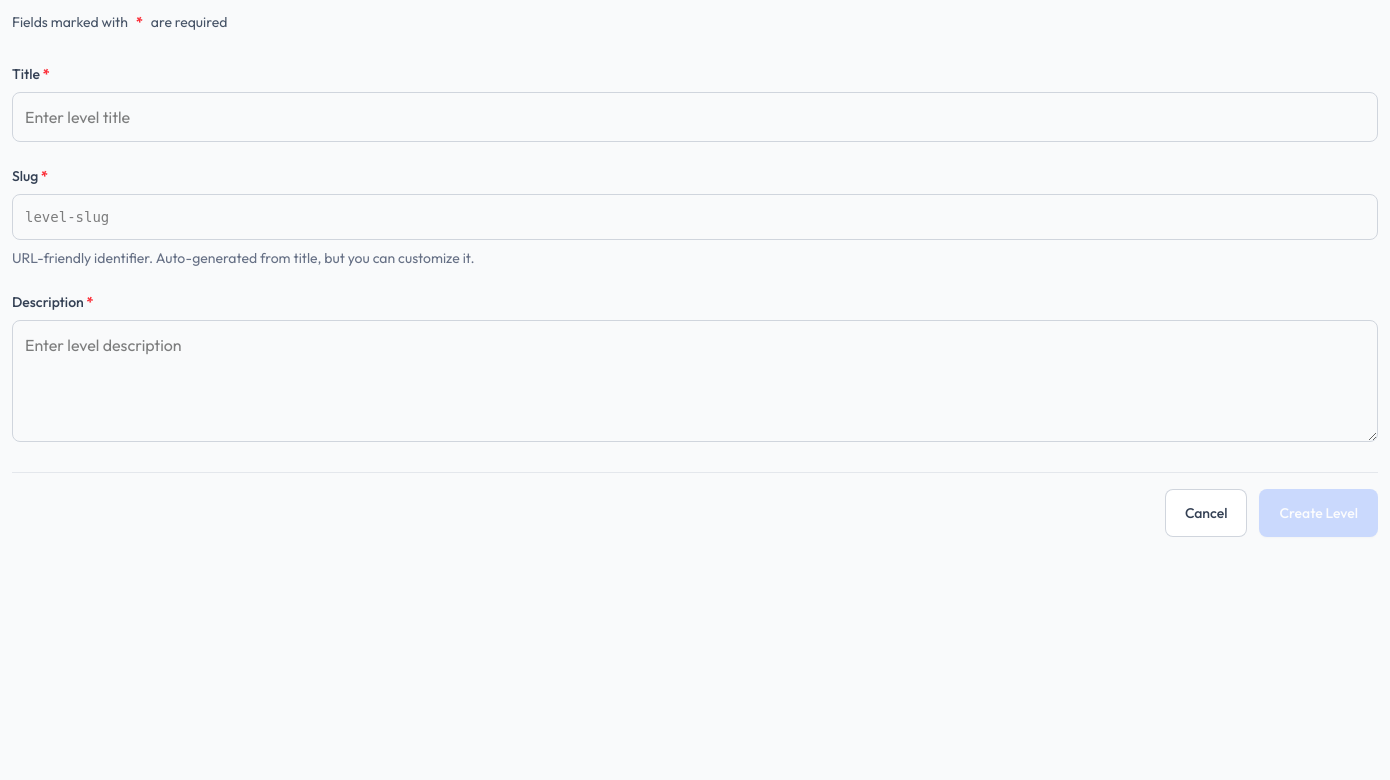
Test case: Form Error Handling › LevelForm displays API errors and allows retry
The width and height of the screenshot is (1390, 780).
# Fill in valid form data
Type "Test Level" into the field labelled "Title *" at (695, 117), box [12,92,1378,142]
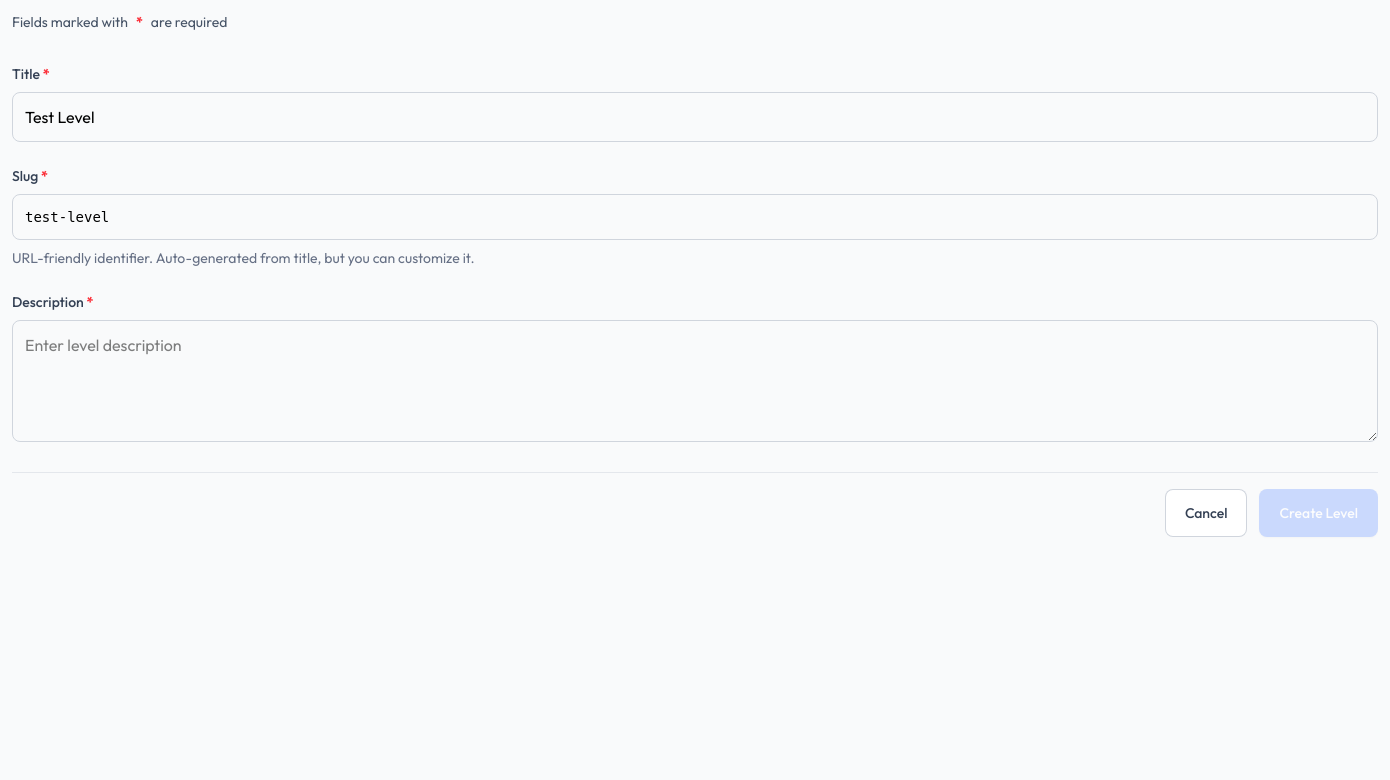
Type "Test description" into the text box labelled "Description *" at (695, 381), box [12,320,1378,442]
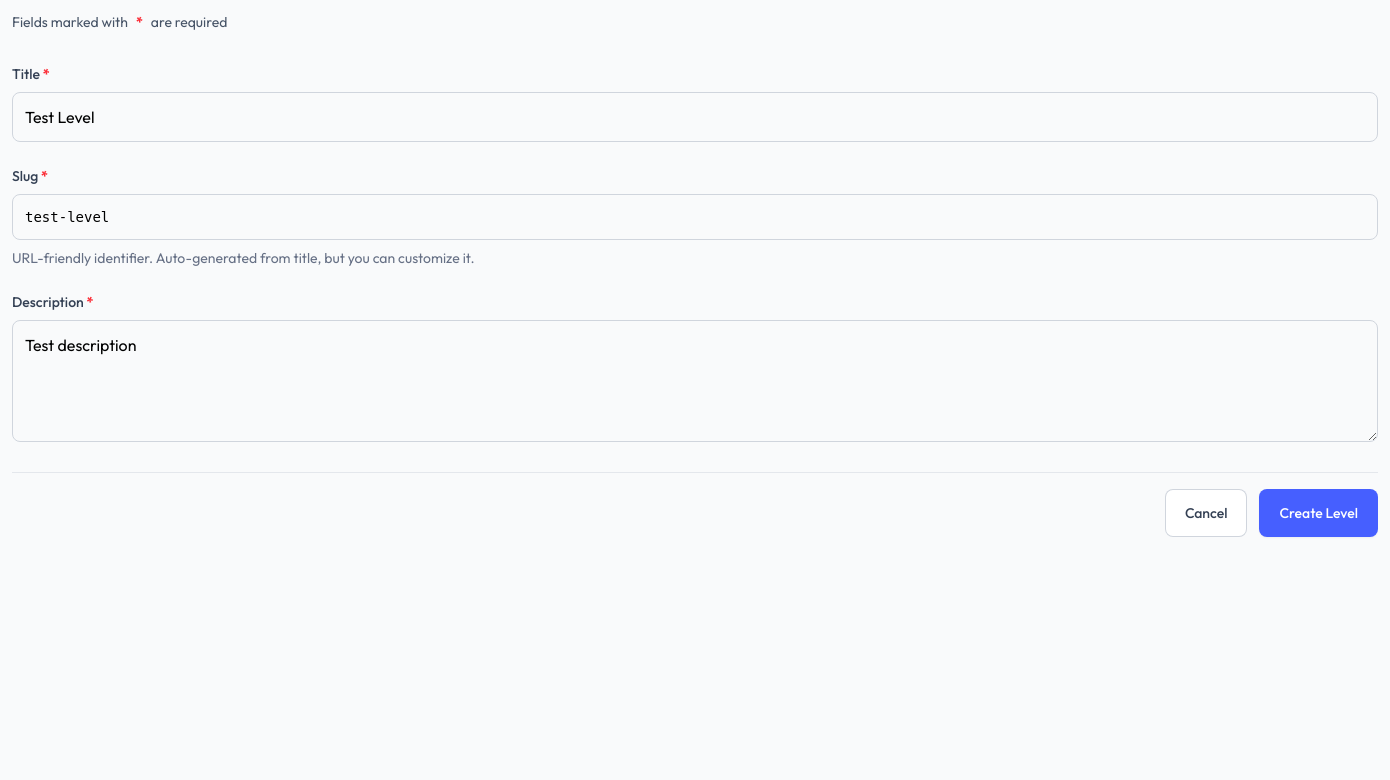
# Submit form - should fail first time
Click the button "Create Level" at (1319, 513), box [1260,489,1378,537]
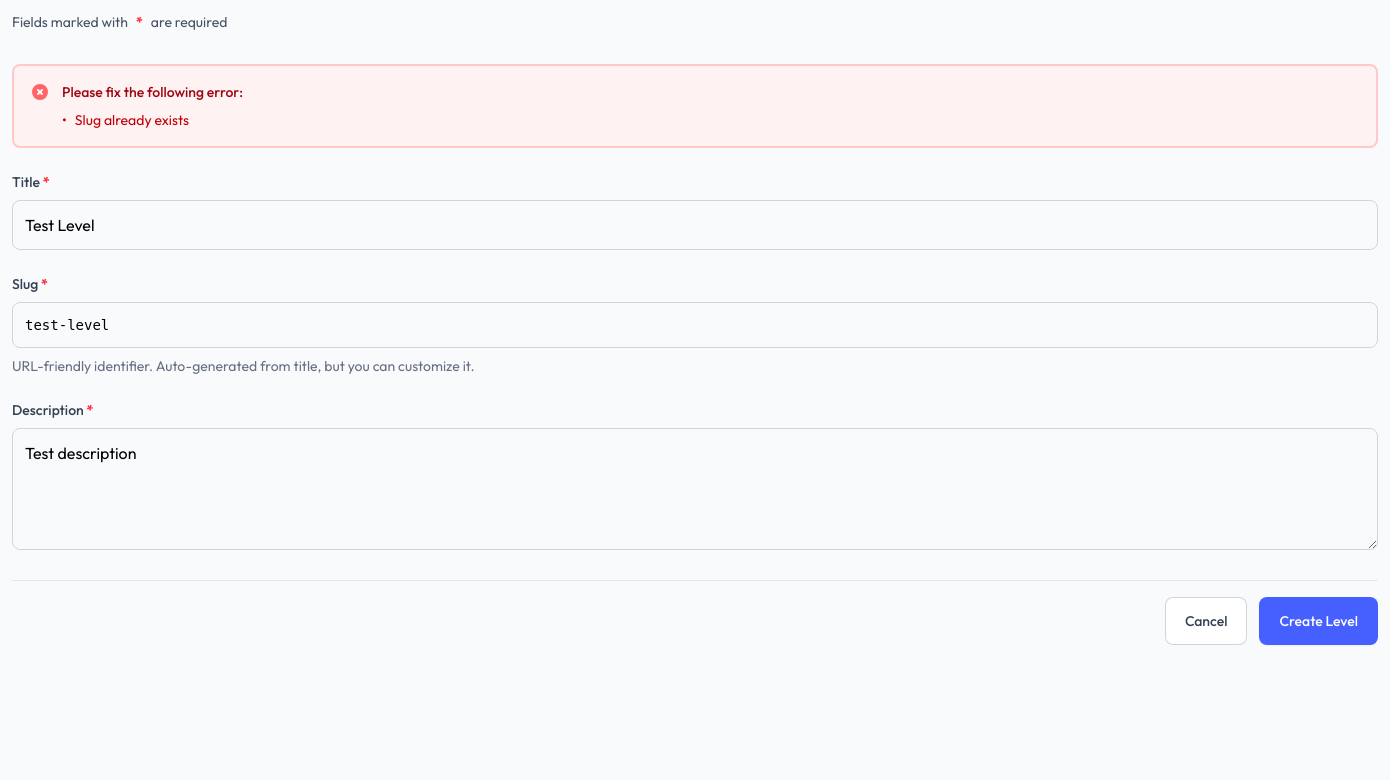
Expected: the text "Slug already exists" is shown, [75,110,189,130]
